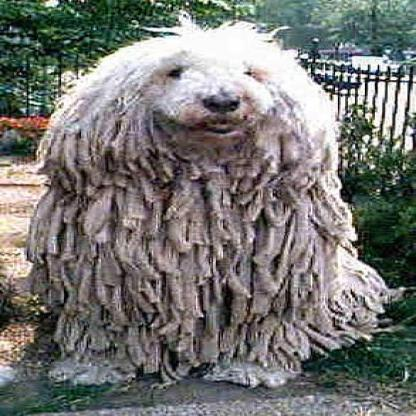komondor: (20, 5, 399, 395)
